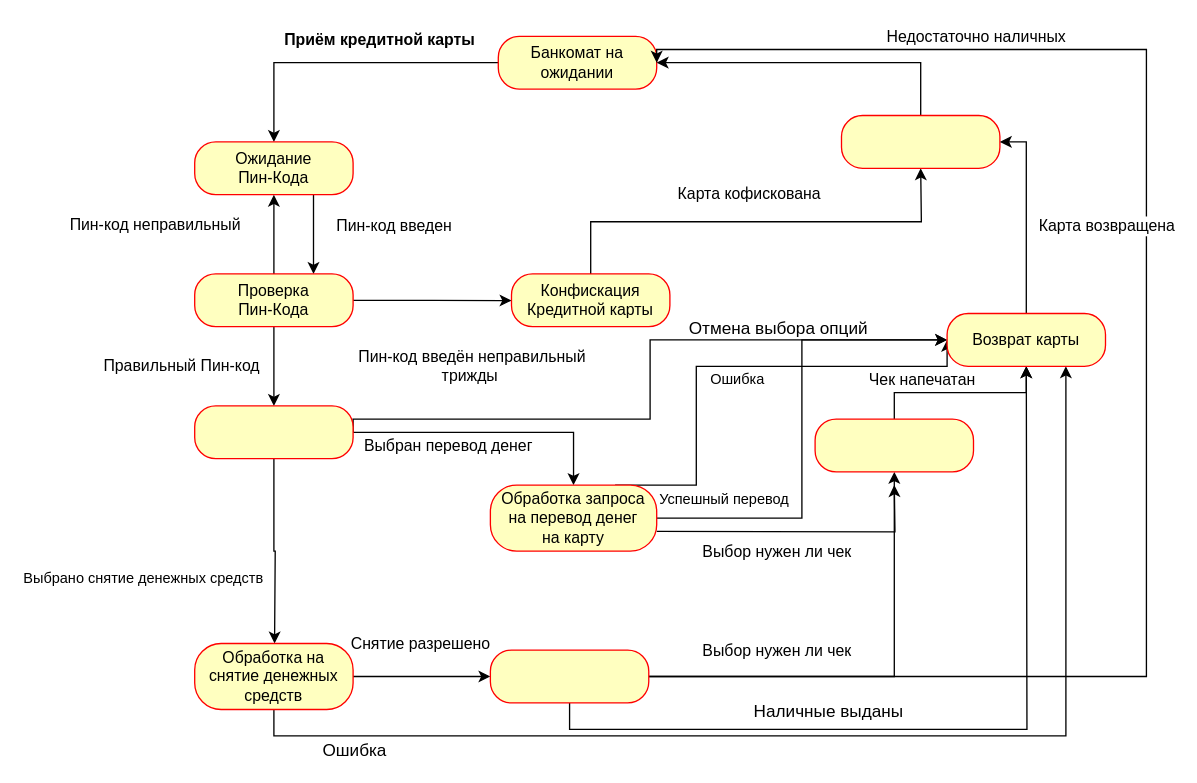
Some shapes in this 1197 by 783 pixel diagram are drawn without their labels. The centre of each missing label's shape, as x and y in pixels:
"Выдача наличных" goes at point (569, 676).
"Завершение процессов" goes at point (920, 141).
"Ожидание выбора опции" goes at point (273, 432).
"Печать чека" goes at point (894, 445).
